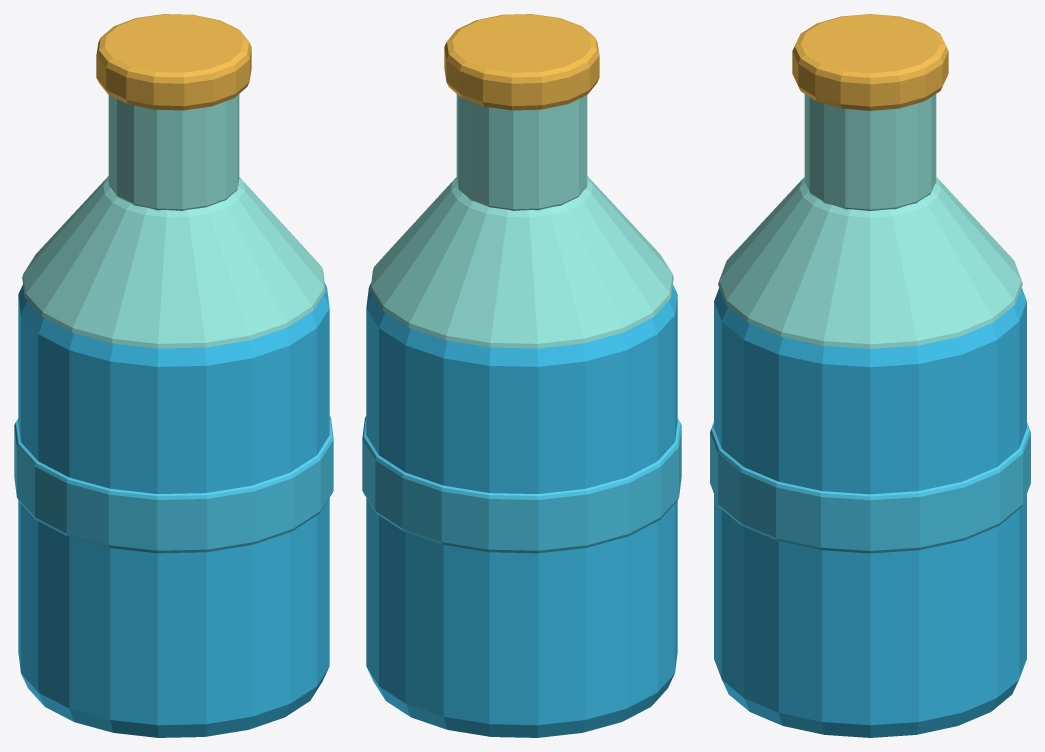
Rendered from cyber_soda.glb.
3 renders of one model, left to right at view 1: azimuth 30°, elevation 25°; view 2: azimuth 150°, elevation 25°; view 3: azimuth 270°, elevation 25°, orthographic.
Parts seen in each view (by area): view 1: Bottle, Neck, Label band, Cap; view 2: Bottle, Neck, Label band, Cap; view 3: Bottle, Neck, Label band, Cap.
Part boxes in pixels (x1,y1,x2,y2): Bottle: (18,283,329,737); Neck: (22,94,325,348); Label band: (14,416,333,553); Cap: (96,14,251,110); Bottle: (366,283,677,737); Neck: (370,94,673,348); Label band: (362,416,681,553); Cap: (444,14,599,110); Bottle: (714,288,1026,737); Neck: (718,94,1022,348); Label band: (710,422,1030,553); Cap: (792,14,948,110).
Bounding box in the file's own units: 0.39 × 0.855 × 0.39.
